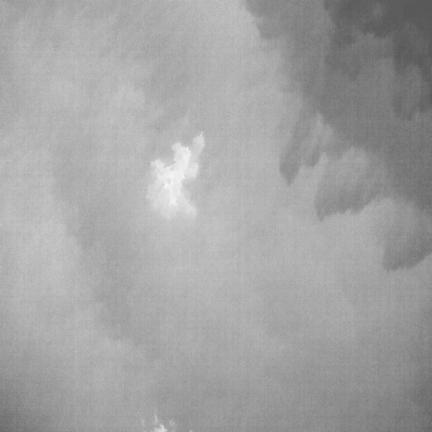flukeprints: (154, 143, 190, 208)
